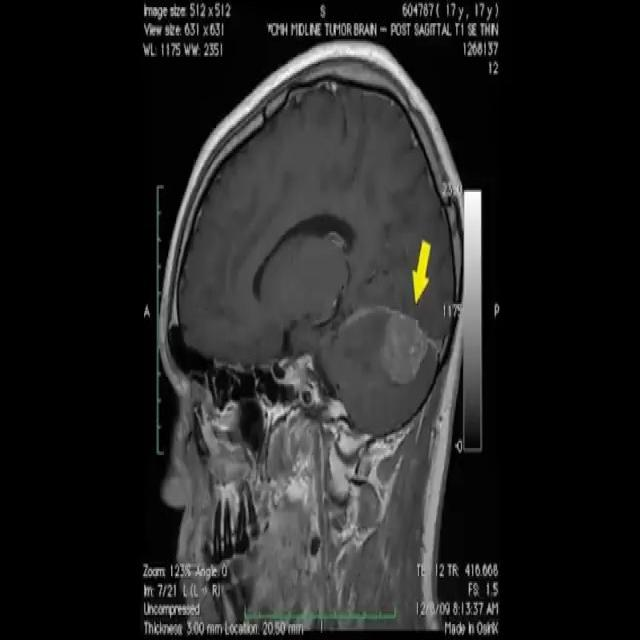tumor: (363, 312, 441, 410)
